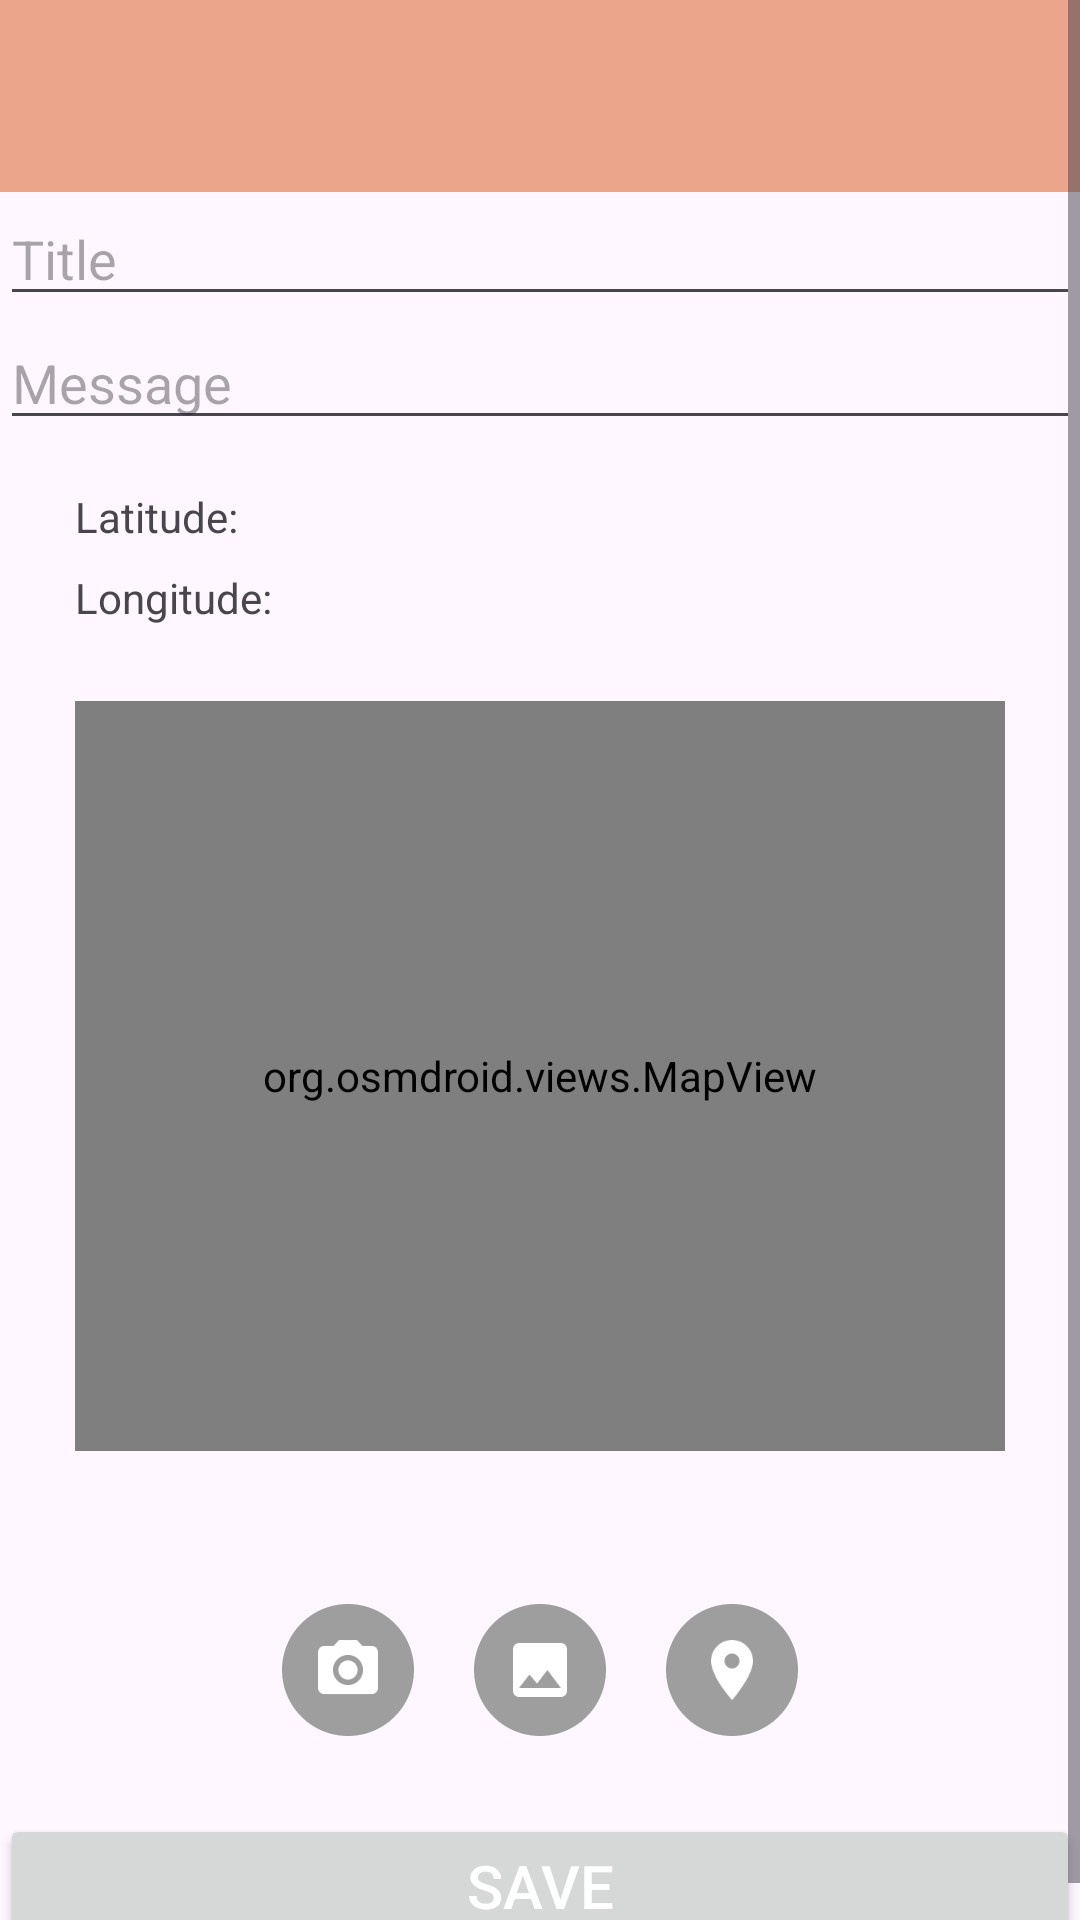

Screen size 1080×1920. Icon name, then its box in pixels as BBox(x1, y1, x2, y2):
Camera: BBox(282, 1604, 414, 1736)
Gallery: BBox(474, 1604, 606, 1736)
Show location: BBox(666, 1604, 798, 1736)
